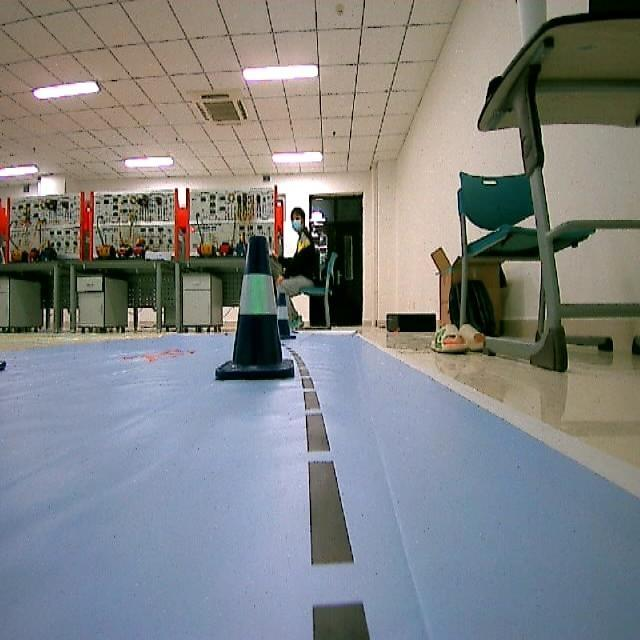obstacle: (210, 234, 295, 384)
